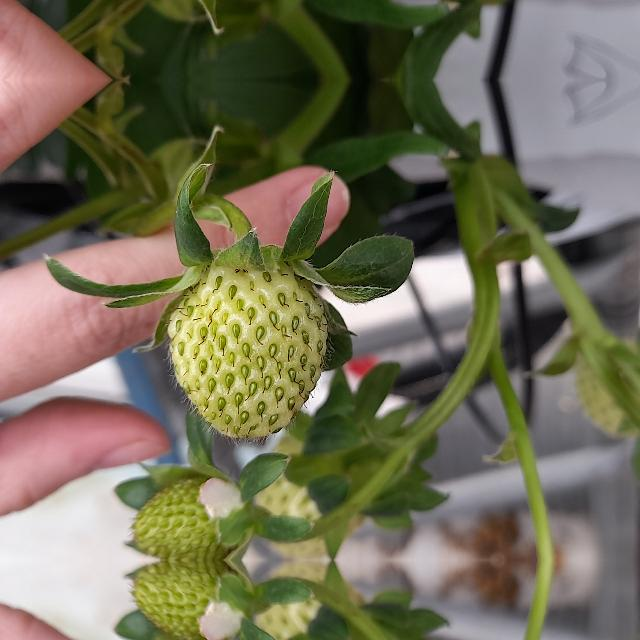Health_25: (167, 261, 327, 437), (123, 480, 254, 560), (123, 560, 254, 640)
